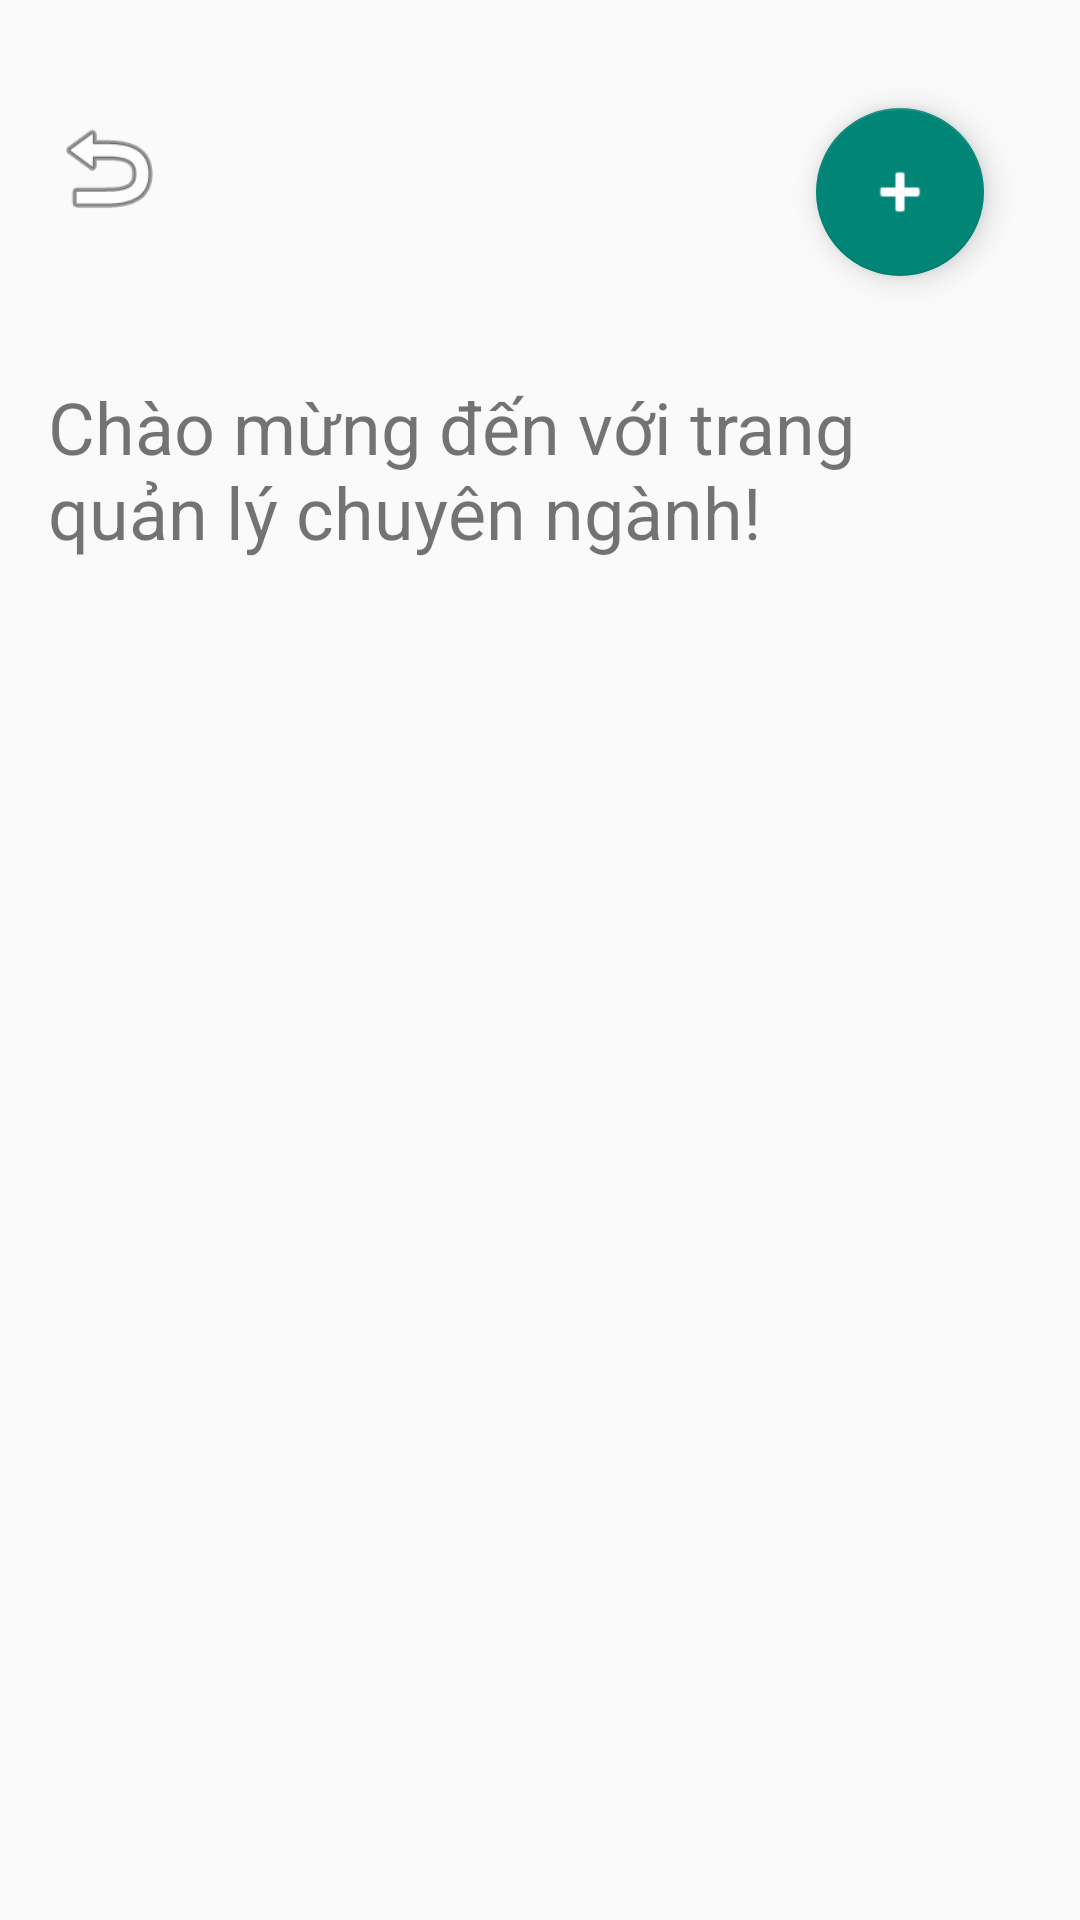

Where to tap for icons on this 1080×1920 app screen, as [x,y]:
revert: [109,169]
Thêm chuyên ngành: [900,192]
